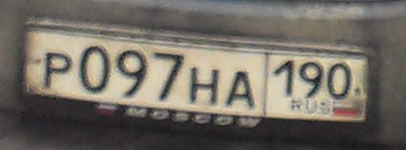character: (153, 44, 186, 103), (116, 47, 150, 100), (77, 44, 109, 96), (224, 66, 260, 110), (190, 64, 221, 111), (41, 49, 73, 94), (296, 56, 326, 104), (327, 53, 355, 102), (273, 55, 297, 99)
